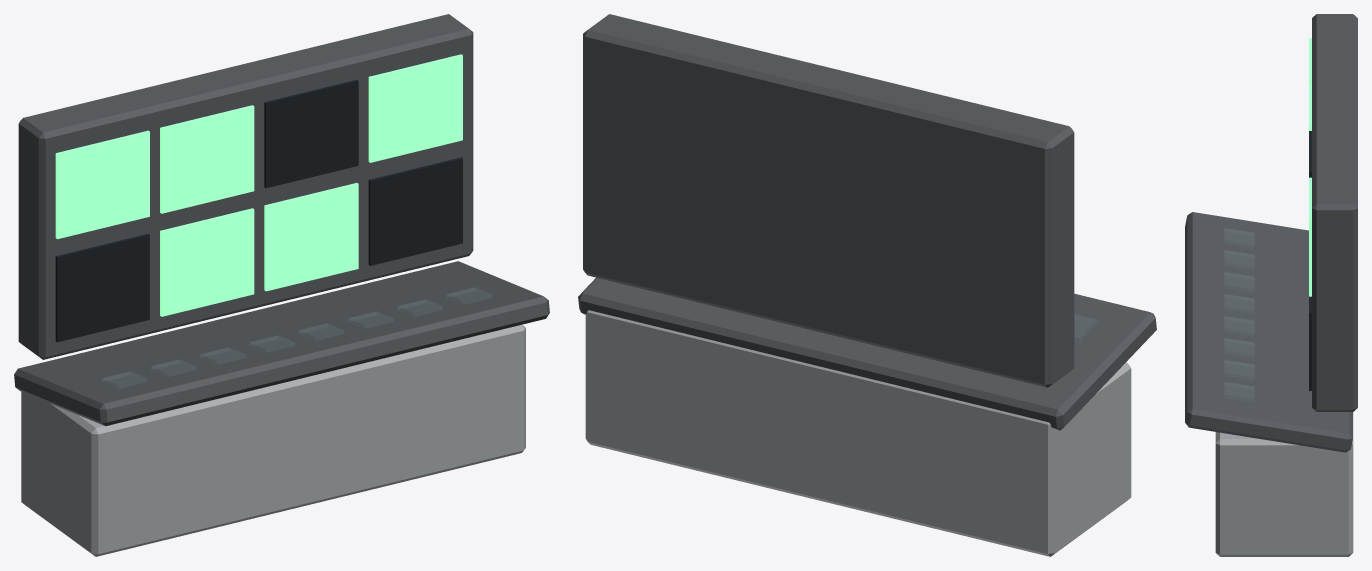
Rendered from an_station.glb.
3 renders of one model, left to right at view 1: azimuth 30°, elevation 25°; view 2: azimuth 150°, elevation 25°; view 3: azimuth 270°, elevation 25°, orthographic. The views are drawn at different scales.
Parts seen in each view (by area): view 1: an_station; view 2: an_station; view 3: an_station.
Boxes of the visible parts, left/top/right/bottom form: an_station: left=14, top=14, right=549, bottom=556; an_station: left=578, top=14, right=1156, bottom=556; an_station: left=1185, top=14, right=1357, bottom=556.
Bounding box in the file's own units: 3.1 × 2.54 × 1.13.
